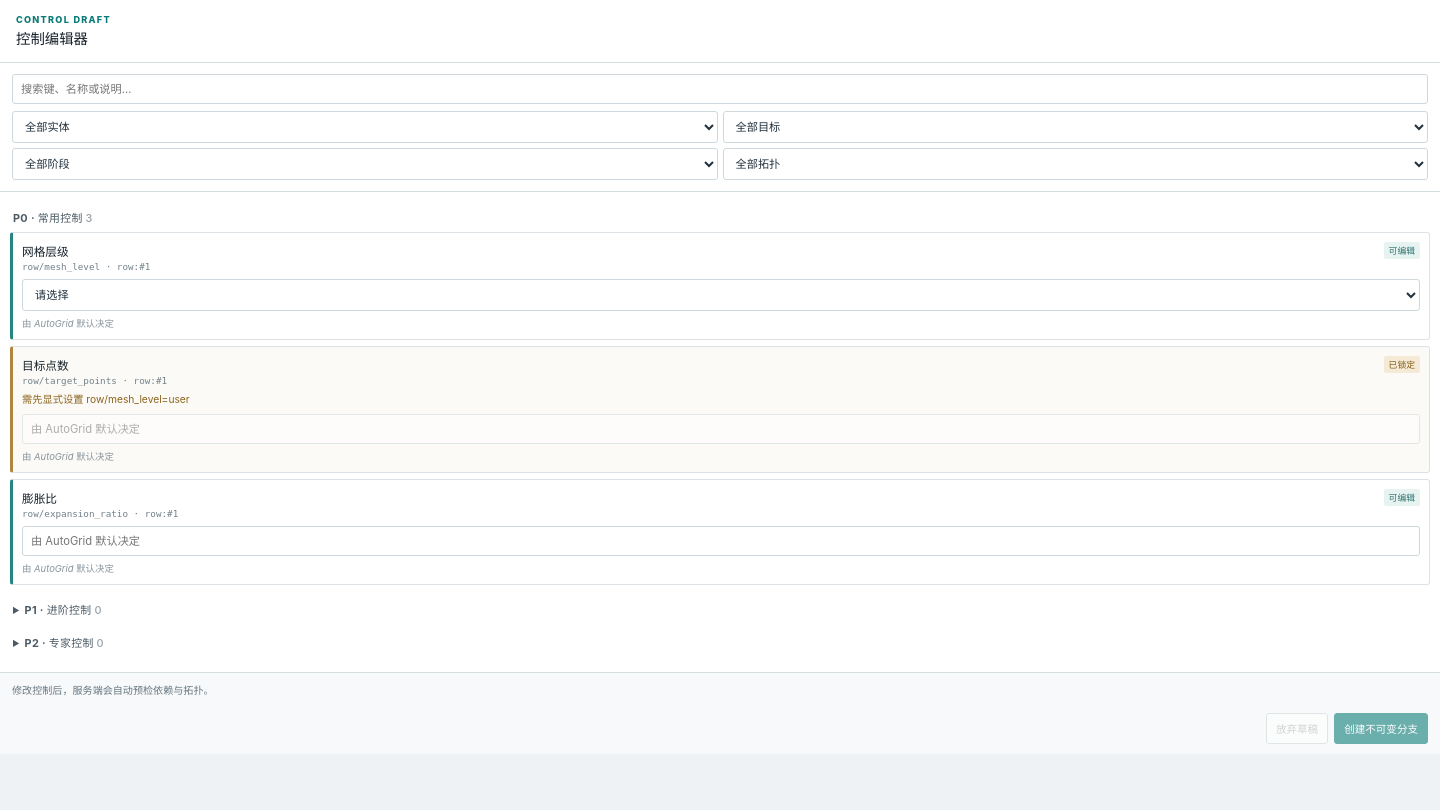
Test: 1.9 与超安全整数明确报错、不进入草稿并阻止提交
Expected: the field named "row/target_points · row:#1" is shown, left=22, top=414, right=1420, bottom=444
Select "user" in the 5th dropdown at (721, 295), box left=22, top=279, right=1420, bottom=311
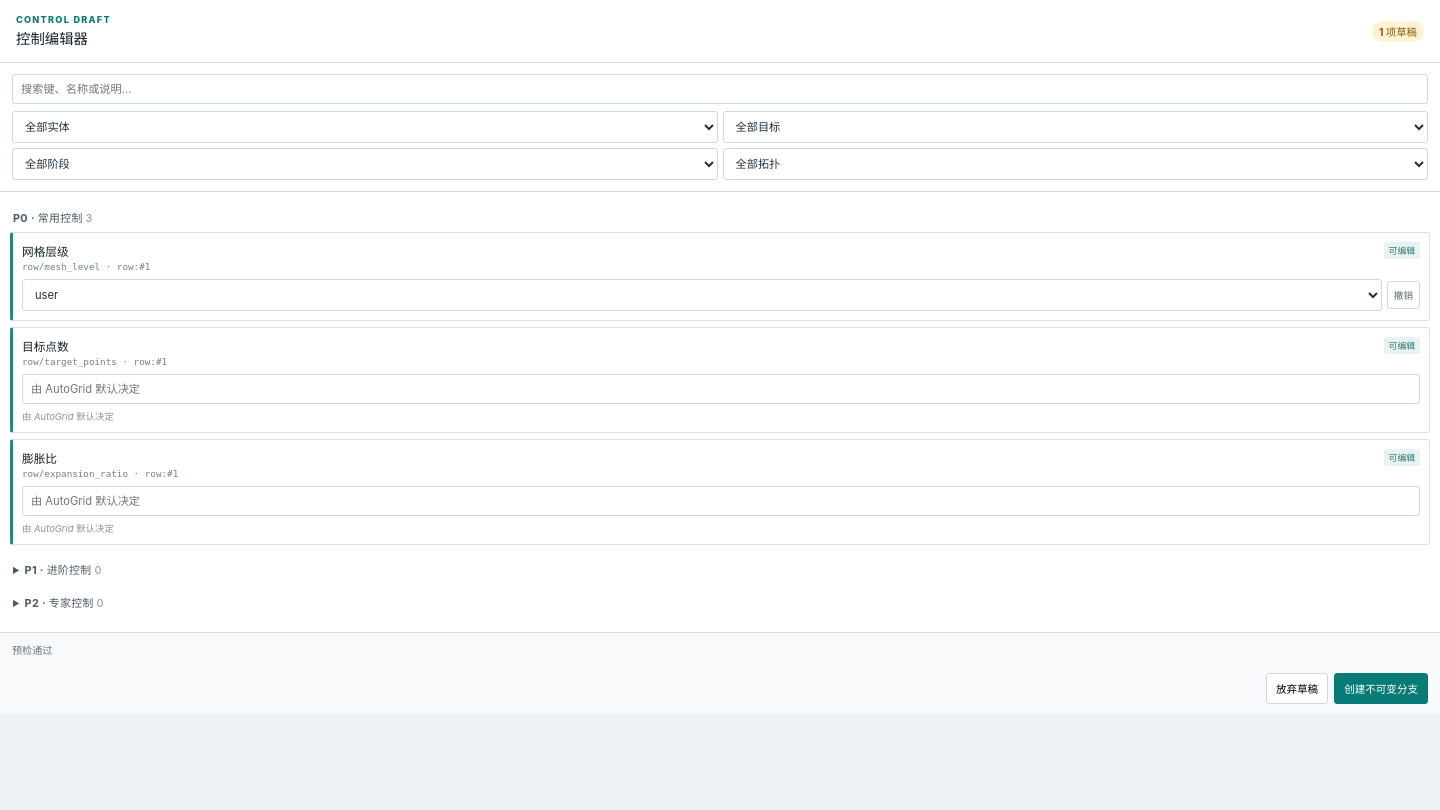
Expected: the field named "row/target_points · row:#1" is enabled
Type "9007199254740991" into the field named "row/target_points · row:#1" at (721, 389), box left=22, top=374, right=1420, bottom=404
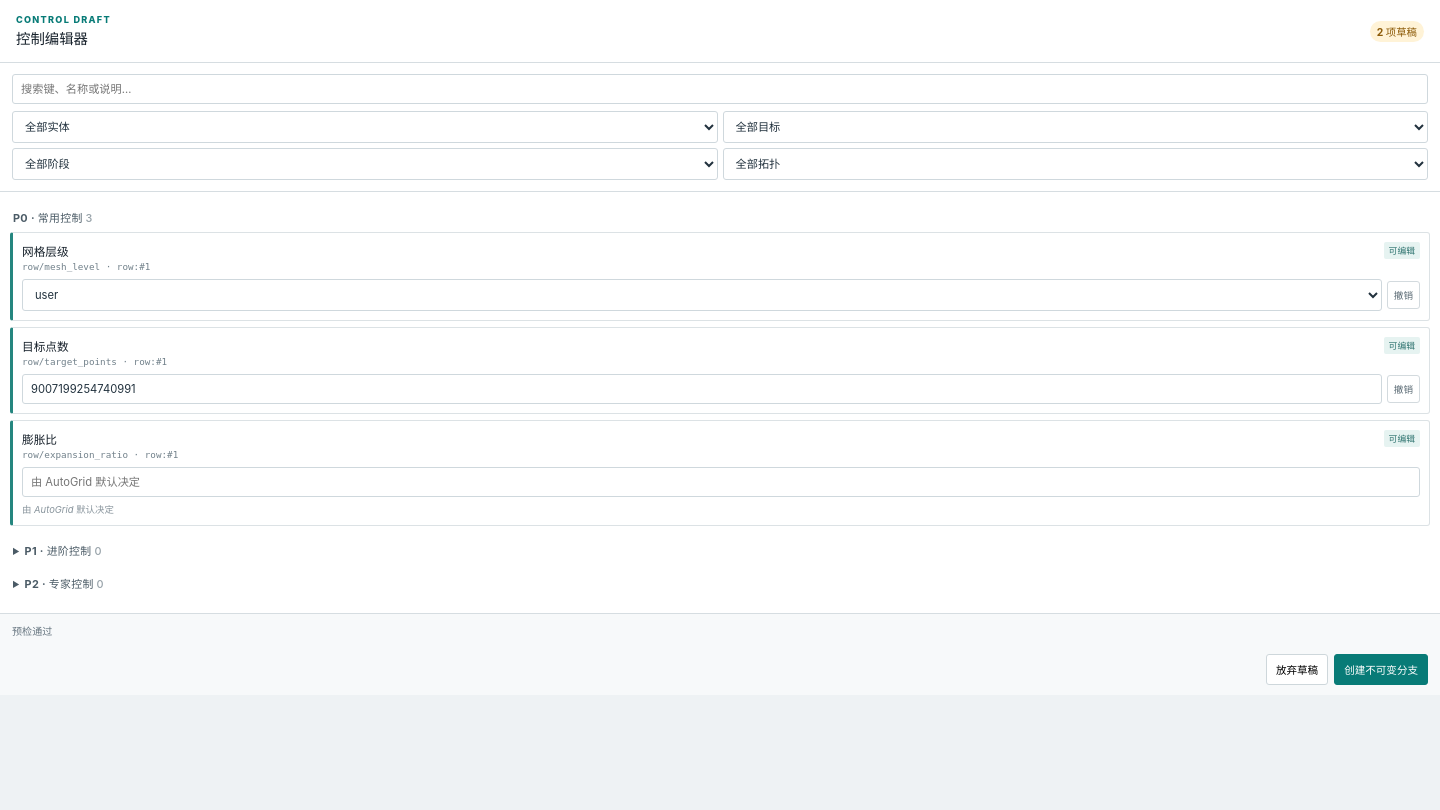
Expected: the button "创建不可变分支" is enabled, left=1334, top=654, right=1428, bottom=685
Replace the text in the field named "row/target_points · row:#1" with "9007199254740992" at (702, 389), box left=22, top=374, right=1382, bottom=404
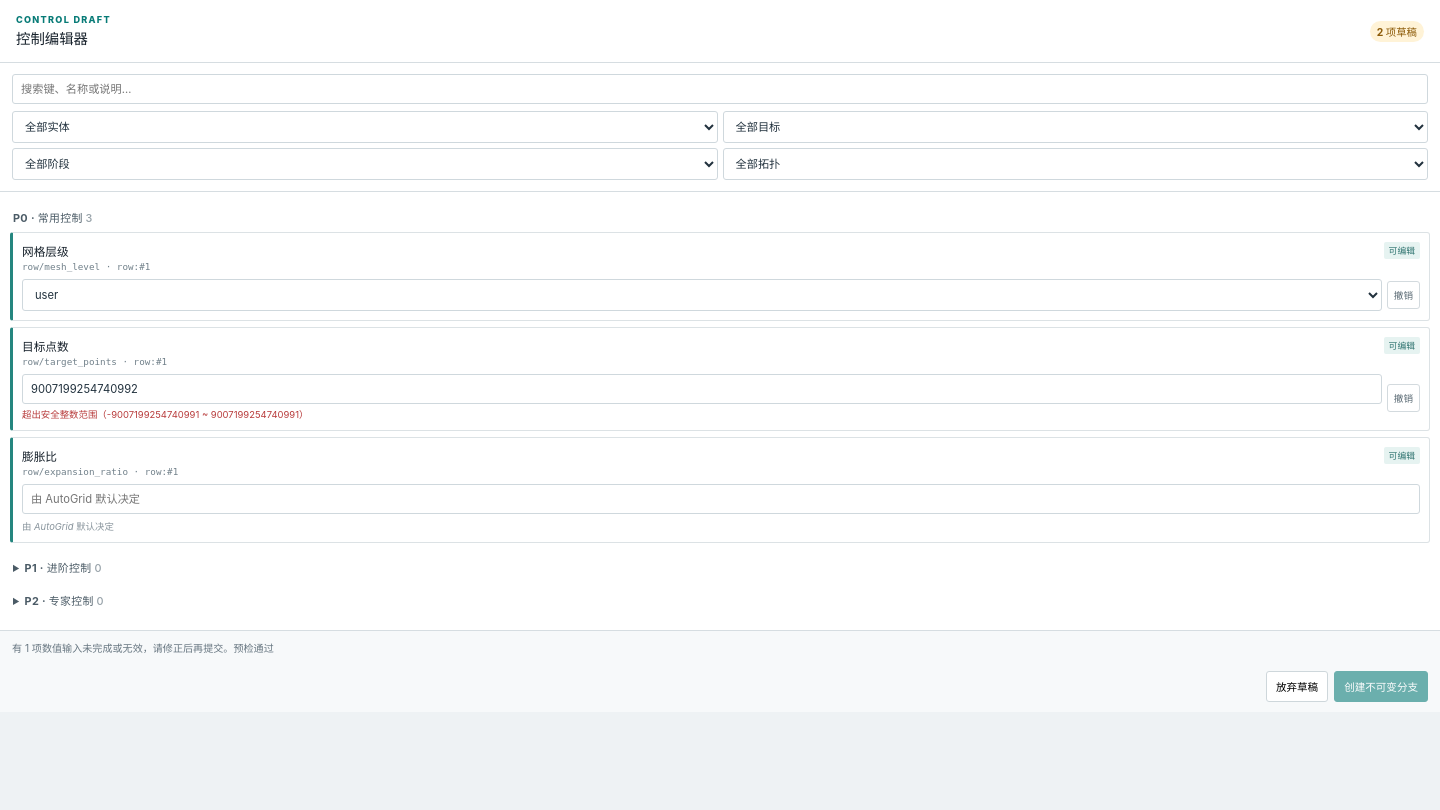
Expected: the text "超出安全整数范围（-9007199254740991 ~ 9007199254740991）" is shown, left=22, top=409, right=308, bottom=420
Expected: the button "创建不可变分支" is disabled, left=1334, top=671, right=1428, bottom=702
Replace the text in the field named "row/target_points · row:#1" with "1.9" at (702, 389), box left=22, top=374, right=1382, bottom=404
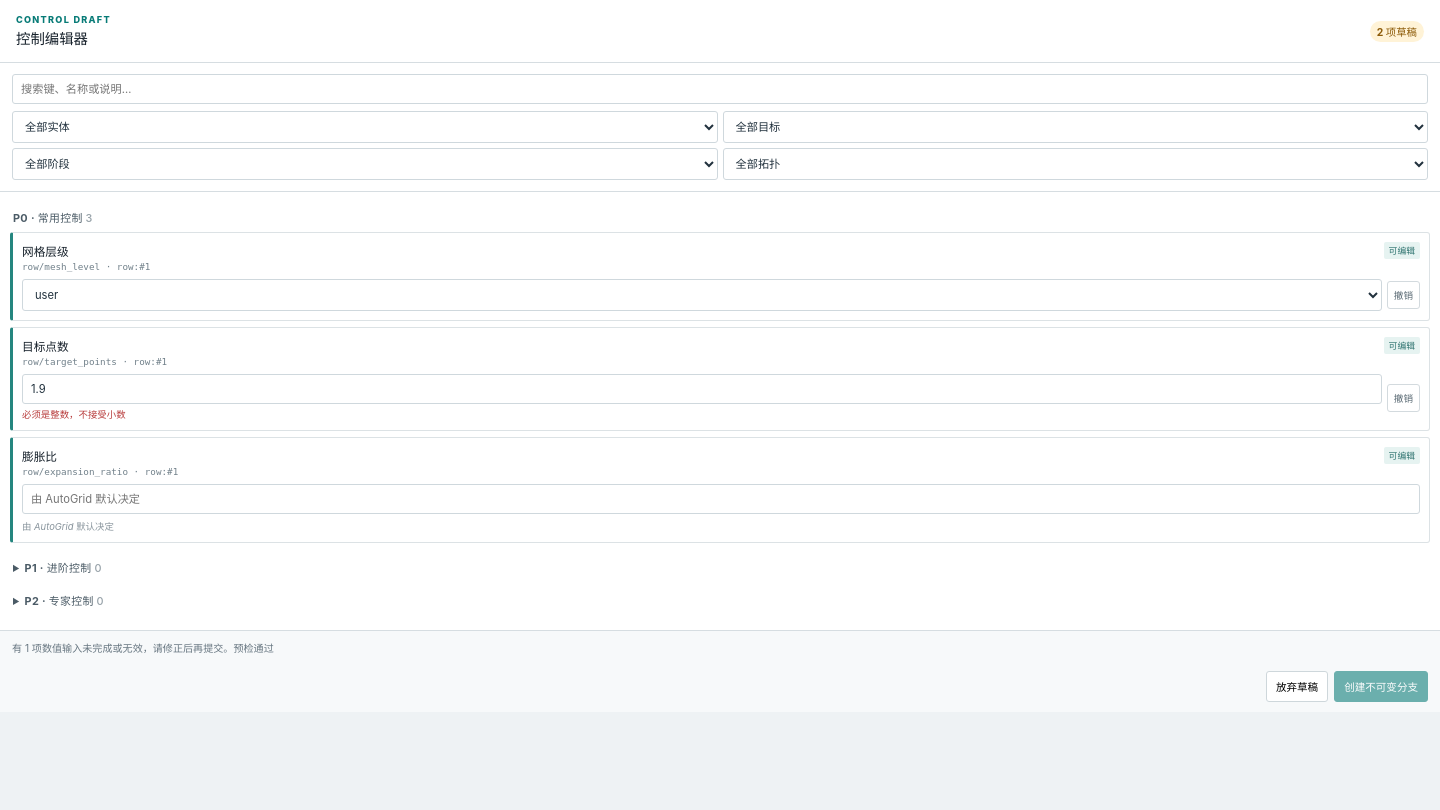
Expected: the button "创建不可变分支" is disabled, left=1334, top=671, right=1428, bottom=702
Expected: the text "有 1 项数值输入未完成或无效，请修正后再提交。预检通过" is shown, left=12, top=642, right=274, bottom=654
Expected: the text "必须是整数，不接受小数" is shown, left=22, top=409, right=126, bottom=420
